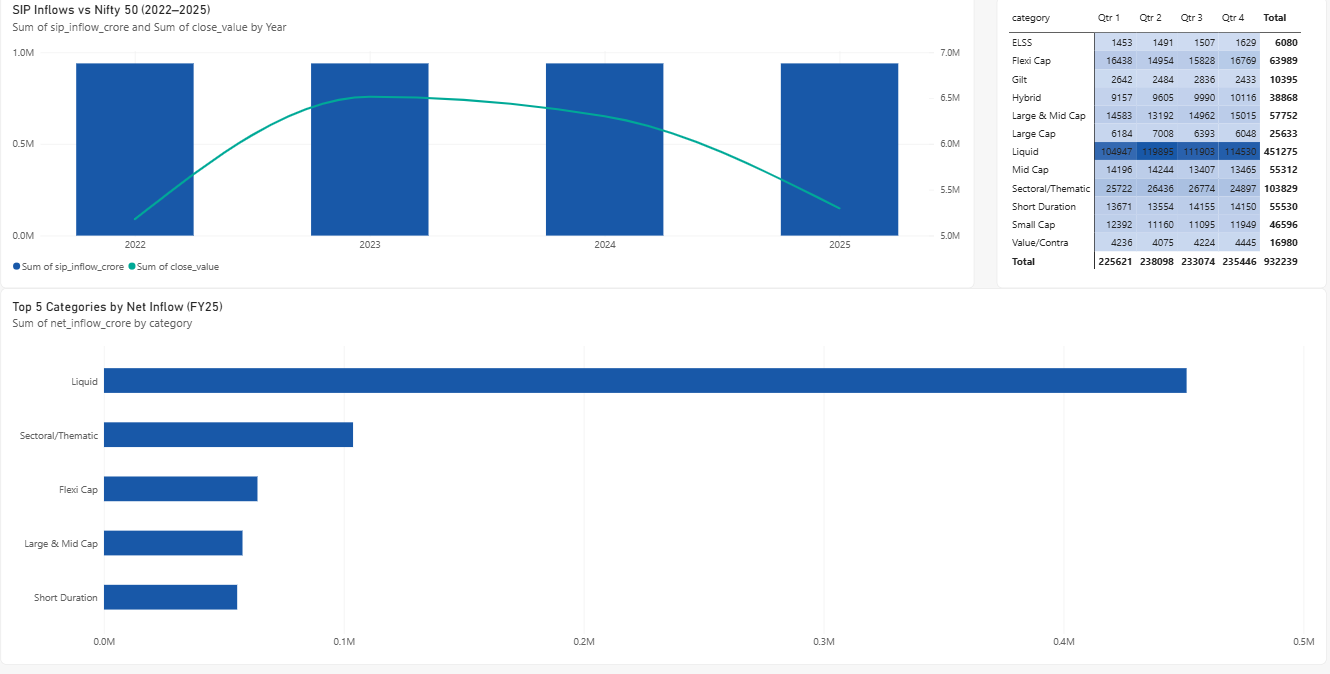

Layout of this report page (visuals, bound fields, positions):
{"tool":"powerbi","page":{"name":"SIP & Market Trends","canvas":[1920,1080],"ordinal":3},"visuals":[{"type":"lineStackedColumnComboChart","title":"SIP Inflows vs Nifty 50 (2022–2025)","fields":{"Category":["DateTable.Date.Variation.Date Hierarchy.Year","DateTable.Date.Variation.Date Hierarchy.Quarter","DateTable.Date.Variation.Date Hierarchy.Month","DateTable.Date.Variation.Date Hierarchy.Day"],"Y":["Sum(04_monthly_sip_inflows.sip_inflow_crore)"],"Y2":["Sum(10_benchmark_indices.close_value)"]},"box":[10.3,0,424,354],"z":0},{"type":"pivotTable","fields":{"Columns":["05_category_inflows.month.Variation.Date Hierarchy.Year","05_category_inflows.month.Variation.Date Hierarchy.Quarter","05_category_inflows.month.Variation.Date Hierarchy.Month","05_category_inflows.month.Variation.Date Hierarchy.Day"],"Rows":["05_category_inflows.category"],"Values":["Sum(05_category_inflows.net_inflow_crore)"]},"box":[553.7,45.3,345.8,415.8],"z":1000},{"type":"clusteredBarChart","title":"Top 5 Categories by Net Inflow (FY25)","fields":{"Category":["05_category_inflows.category"],"Y":["Sum(05_category_inflows.net_inflow_crore)"]},"box":[10.3,424,526.9,537.2],"z":2000}]}

Visuals, with their boxes on the page's 1920x1080 design canvas (x1, y1, x2, y2). These are canvas units, not pixel positions in the 1330x674 screenshot, which may show the page scaled, cropped or inside an application window:
"SIP Inflows vs Nifty 50 (2022–2025)" lineStackedColumnComboChart: locate(10, 0, 434, 354)
pivotTable - 05_category_inflows.month.Variation.Date Hierarchy.Year x 05_category_inflows.month.Variation.Date Hierarchy.Quarter: locate(554, 45, 900, 461)
"Top 5 Categories by Net Inflow (FY25)" clusteredBarChart: locate(10, 424, 537, 961)
